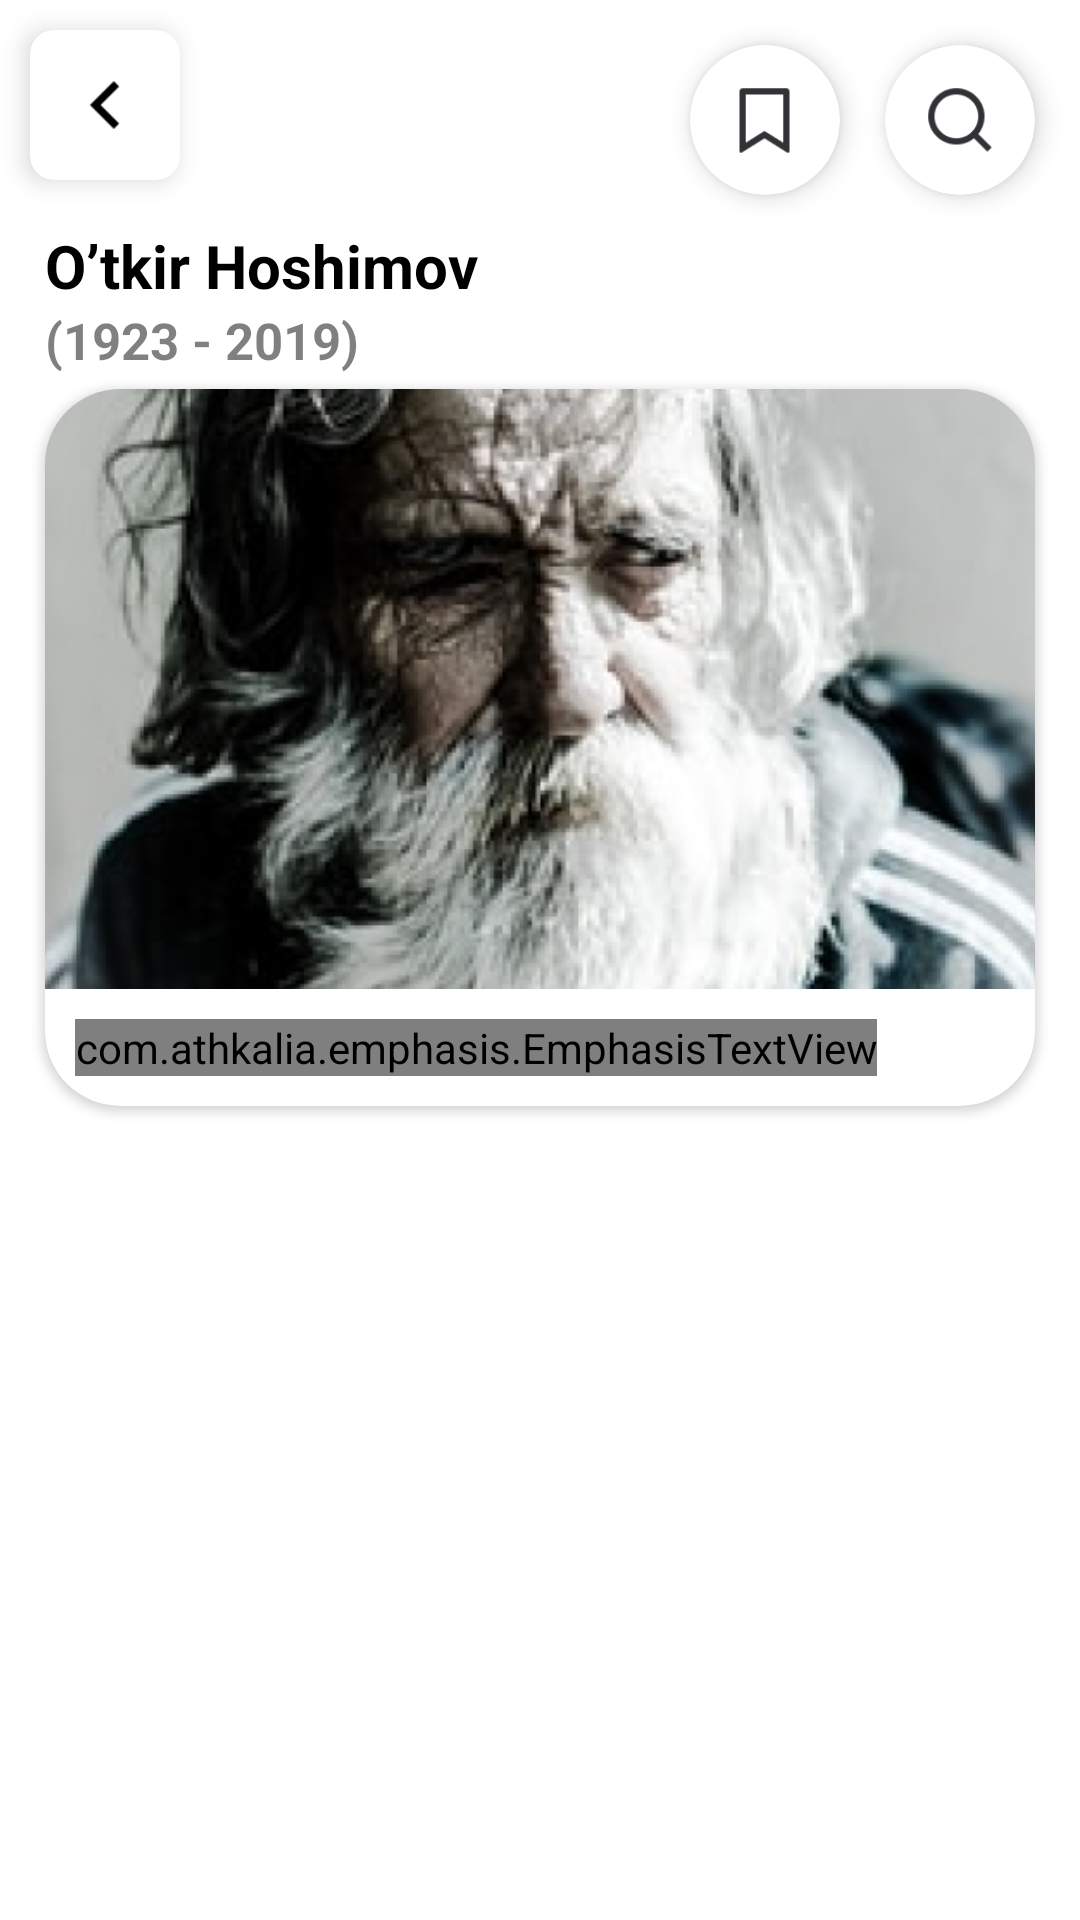

Icons on this 1080px x 1920px Android screen, each with its box as (x1, y1, x2, y2):
bac: (90, 81, 119, 129)
saved: (739, 88, 790, 153)
search: (928, 88, 992, 152)
